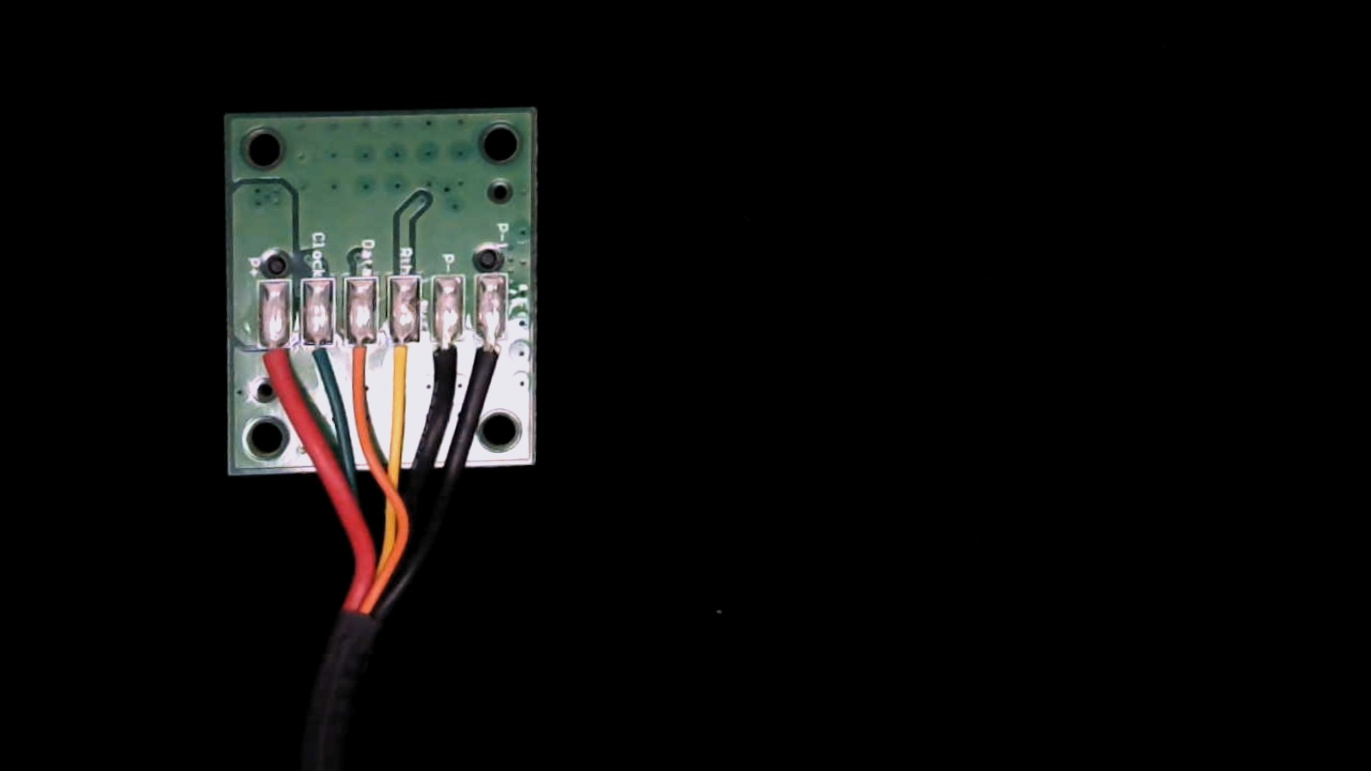Black: (427, 321, 464, 396)
Black1: (469, 320, 509, 393)
Green: (298, 324, 338, 392)
Orange: (342, 319, 380, 397)
Red: (252, 326, 293, 402)
Yellow: (381, 320, 422, 400)
